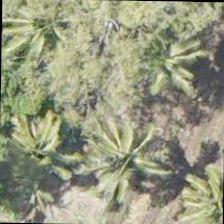Kelapa_Sawit: (82, 102, 174, 194), (117, 8, 209, 100), (1, 0, 90, 75), (0, 105, 70, 197), (173, 153, 224, 223)
